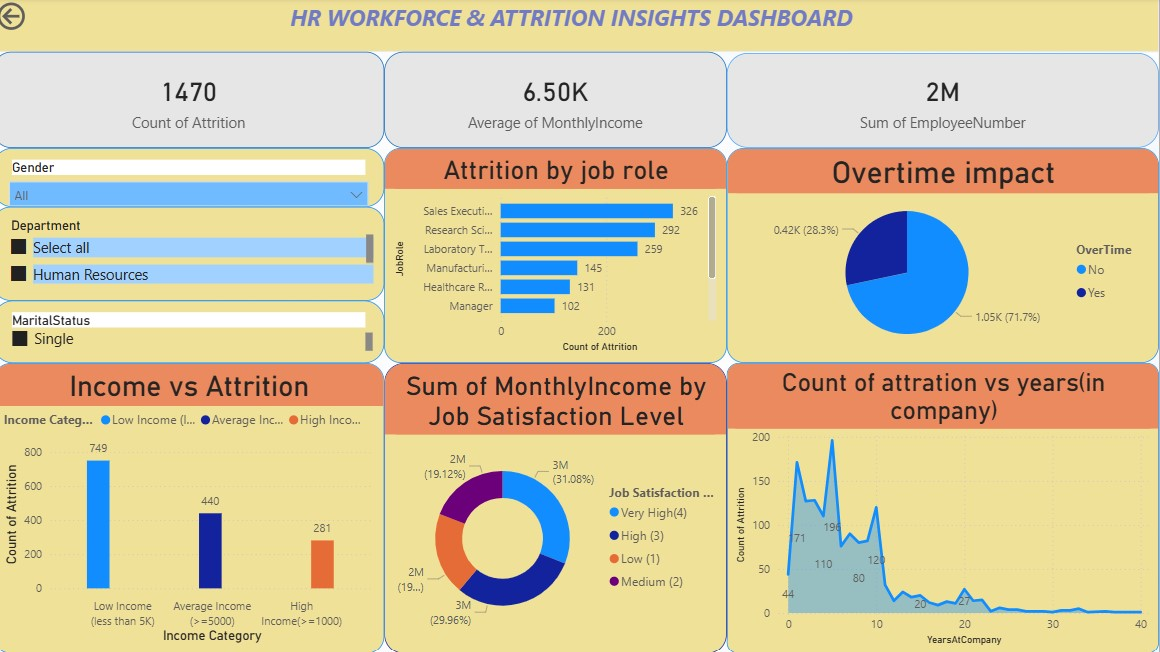

The dashboard page shown, as its layout file describes it:
{"tool":"powerbi","page":{"name":"Dashboard","canvas":[1280,720],"ordinal":5},"visuals":[{"type":"stackedAreaChart","title":"Count of attration vs years(in company)","fields":{"Y":["CountNonNull(WA_Fn-UseC_-HR-Employee-Attriti.Attrition)"],"Category":["WA_Fn-UseC_-HR-Employee-Attriti.YearsAtCompany"]},"box":[805.5,400.7,474.8,319.7],"z":0},{"type":"donutChart","fields":{"Category":["WA_Fn-UseC_-HR-Employee-Attriti.Job Satisfaction Level"],"Y":["Sum(WA_Fn-UseC_-HR-Employee-Attriti.MonthlyIncome)"]},"box":[429.5,400.7,376,319.7],"z":1000},{"type":"clusteredColumnChart","title":"Income vs Attrition","fields":{"Y":["CountNonNull(WA_Fn-UseC_-HR-Employee-Attriti.Attrition)"],"Category":["WA_Fn-UseC_-HR-Employee-Attriti.Income Category"],"Series":["WA_Fn-UseC_-HR-Employee-Attriti.Income Category"]},"box":[0,400.7,429.5,319.7],"z":2000},{"type":"pieChart","title":"Overtime impact","fields":{"Category":["WA_Fn-UseC_-HR-Employee-Attriti.OverTime"],"Y":["CountNonNull(WA_Fn-UseC_-HR-Employee-Attriti.Attrition)"]},"box":[805.5,164.7,474.8,236],"z":3000},{"type":"textbox","box":[0,0,1280.3,59],"z":4000},{"type":"clusteredBarChart","title":"Attrition by job role","fields":{"Category":["WA_Fn-UseC_-HR-Employee-Attriti.JobRole"],"Y":["CountNonNull(WA_Fn-UseC_-HR-Employee-Attriti.Attrition)"]},"box":[429.5,164.7,376,236],"z":5000},{"type":"slicer","fields":{"Values":["WA_Fn-UseC_-HR-Employee-Attriti.Department"]},"box":[0,229.2,429.5,102.9],"z":6000},{"type":"slicer","fields":{"Values":["WA_Fn-UseC_-HR-Employee-Attriti.Gender"]},"box":[0,164.7,429.5,64.5],"z":7000},{"type":"slicer","fields":{"Values":["WA_Fn-UseC_-HR-Employee-Attriti.MaritalStatus"]},"box":[0,332.1,429.5,68.6],"z":8000},{"type":"card","fields":{"Values":["CountNonNull(WA_Fn-UseC_-HR-Employee-Attriti.Attrition)"]},"box":[0,59,429.5,105.7],"z":9000},{"type":"card","fields":{"Values":["Avg(WA_Fn-UseC_-HR-Employee-Attriti.MonthlyIncome)"]},"box":[429.5,59,376,105.7],"z":10000},{"type":"actionButton","box":[0,0,100,40],"z":11000},{"type":"card","fields":{"Values":["Sum(WA_Fn-UseC_-HR-Employee-Attriti.EmployeeNumber)"]},"box":[805.5,60.4,474.8,104.3],"z":12000}]}

Visuals, with their boxes in screenshot pixels (x1, y1, x2, y2), scaled from the page's 1280x720 canvas onto the 1160x652 screenshot:
"Count of attration vs years(in company)" stackedAreaChart: (730,363,1159,651)
donutChart - WA_Fn-UseC_-HR-Employee-Attriti.Job Satisfaction Level x Sum(WA_Fn-UseC_-HR-Employee-Attriti.MonthlyIncome): (389,363,730,651)
"Income vs Attrition" clusteredColumnChart: (0,363,389,651)
"Overtime impact" pieChart: (730,149,1159,363)
textbox: (0,0,1159,53)
"Attrition by job role" clusteredBarChart: (389,149,730,363)
slicer - WA_Fn-UseC_-HR-Employee-Attriti.Department: (0,208,389,301)
slicer - WA_Fn-UseC_-HR-Employee-Attriti.Gender: (0,149,389,208)
slicer - WA_Fn-UseC_-HR-Employee-Attriti.MaritalStatus: (0,301,389,363)
card - CountNonNull(WA_Fn-UseC_-HR-Employee-Attriti.Attrition): (0,53,389,149)
card - Avg(WA_Fn-UseC_-HR-Employee-Attriti.MonthlyIncome): (389,53,730,149)
actionButton: (0,0,91,36)
card - Sum(WA_Fn-UseC_-HR-Employee-Attriti.EmployeeNumber): (730,55,1159,149)
